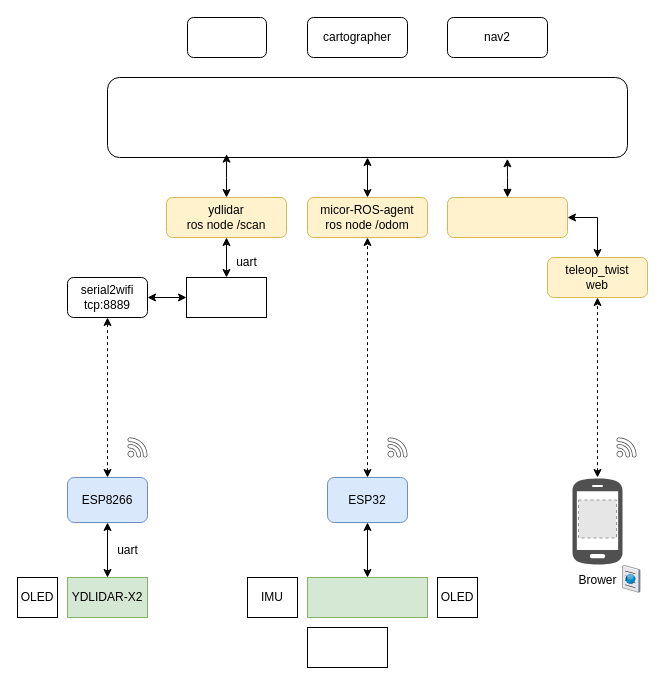
This 665x685 diagram has some shape labels left out. Grey dashed boxes stand in for pictures. Each missing label, with the box of its shape:
/tmp/tty_laser: (186, 276, 266, 318)
370 DC 12V Motor: (306, 576, 428, 618)
Battary: (306, 626, 388, 668)
riviz2: (186, 16, 266, 58)
rosbridge websocket: (446, 196, 568, 238)
Ubuntu 22.04 ROS2 Humble: (106, 76, 628, 158)
